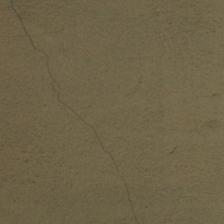Crack: (9, 21, 83, 147), (9, 14, 50, 124)
